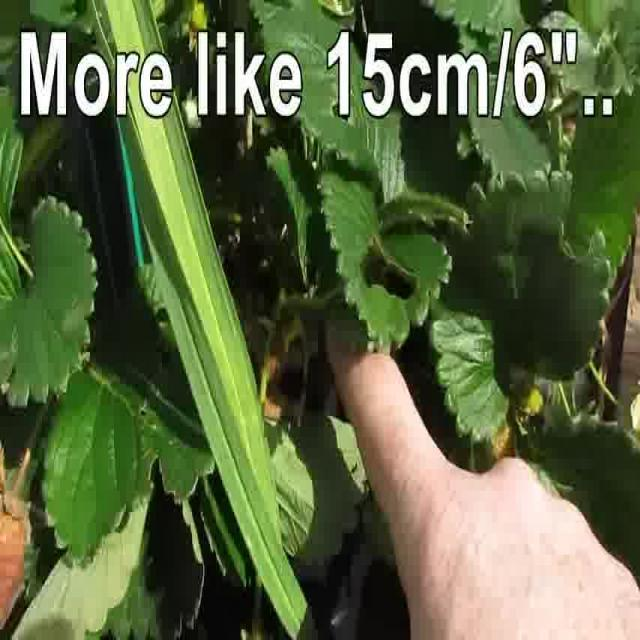Moho gris: (0, 468, 33, 638)
